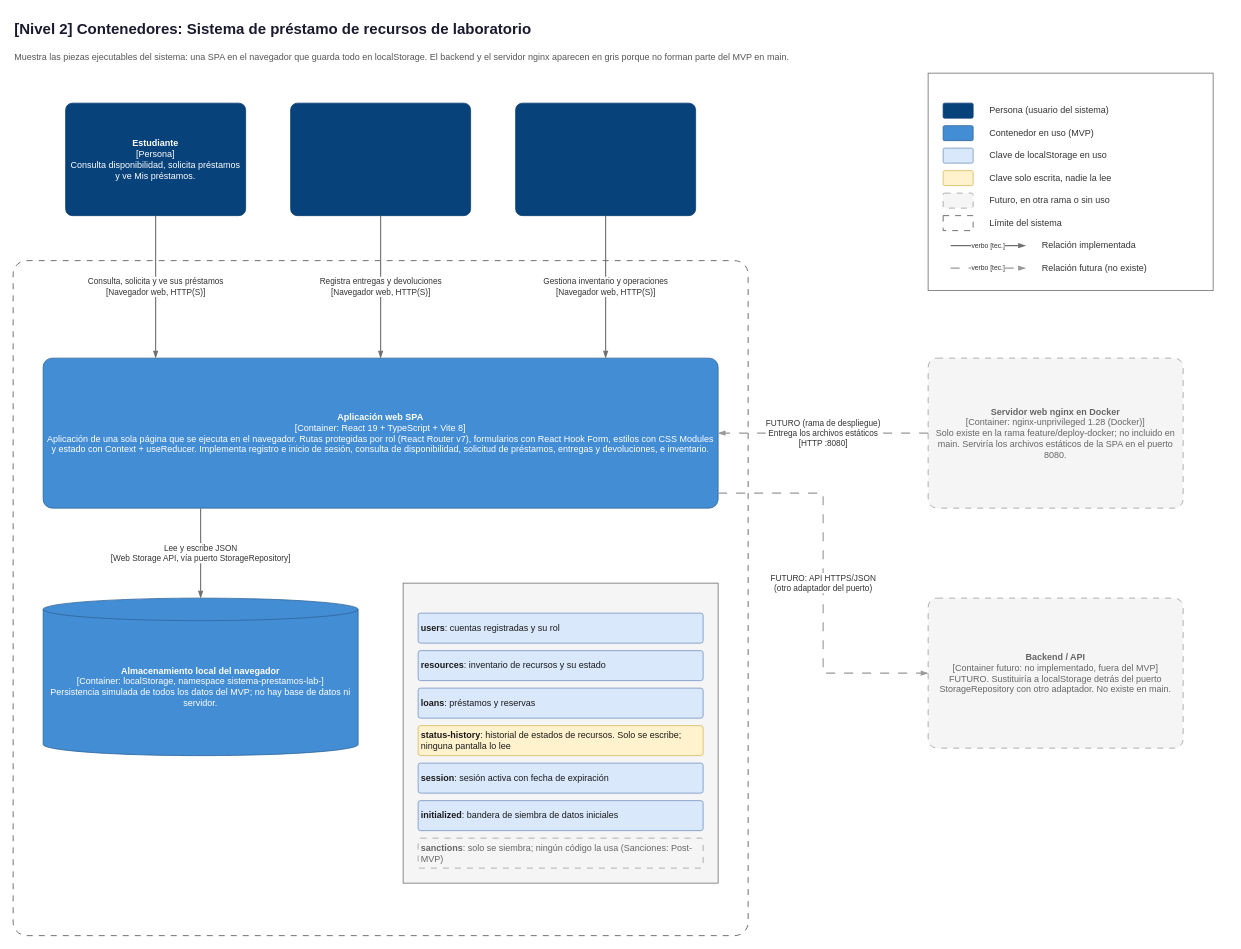
This 1241x949 diagram has some shape labels left out. The shapes that lost their labels are listed below. From the top down, each one's box as (x1, y1, x2, y2) in pixels, then its label:
(290, 102, 471, 216): Técnico de laboratorio [Persona] Registra entregas y devoluciones de recursos.
(515, 102, 696, 216): Administrador de laboratorio [Persona] Gestiona el inventario y las operaciones.
(927, 72, 1213, 291): Leyenda
(12, 260, 748, 936): Sistema de préstamo de recursos de laboratorio [Software System]
(402, 582, 718, 883): Claves de localStorage (prefijo sistema-prestamos-lab-)
